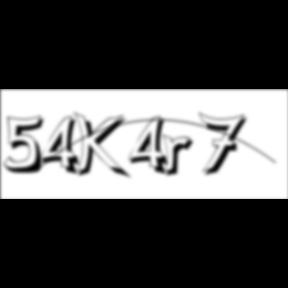4: (128, 115, 176, 179), (40, 115, 86, 179)
5: (3, 114, 50, 176)
7: (198, 111, 253, 179)
K: (74, 110, 134, 182)
r: (162, 134, 200, 180)
